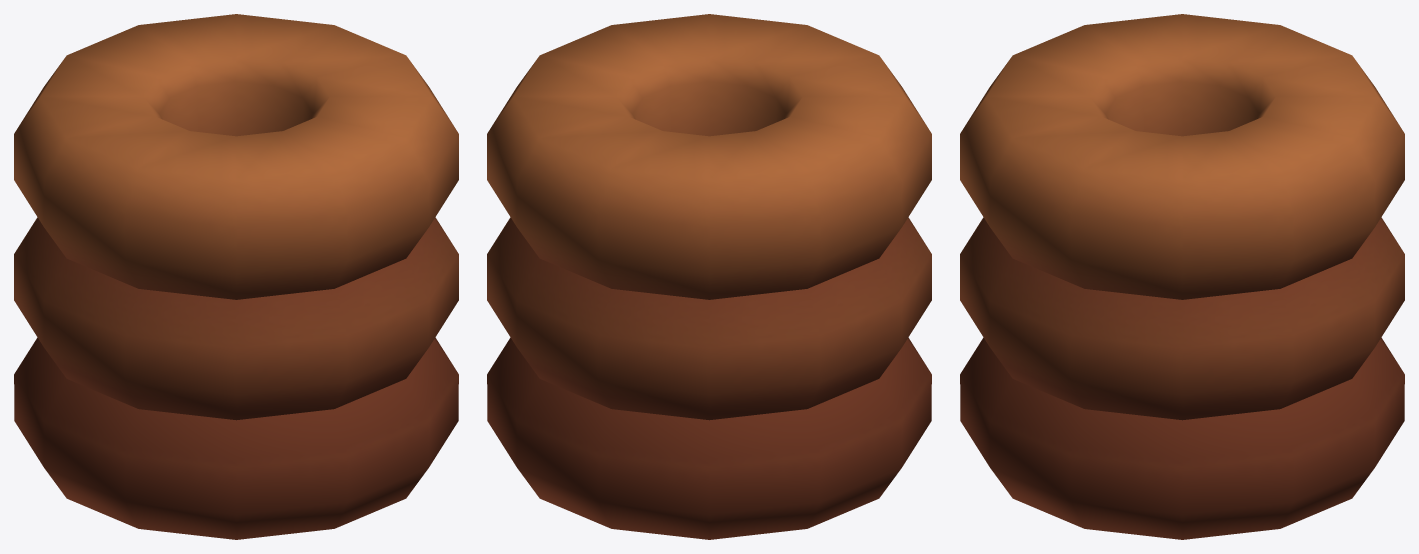
File: m_Baumkuchen02.fbx
3 renders of one model, left to right at view 1: azimuth 30°, elevation 25°; view 2: azimuth 150°, elevation 25°; view 3: azimuth 270°, elevation 25°, orthographic.
Visible parts, largest first — view 1: m_Baumkuchen02; view 2: m_Baumkuchen02; view 3: m_Baumkuchen02.
Boxes of the visible parts, x1,y1,x2,y2 form: m_Baumkuchen02: (14,14,458,539); m_Baumkuchen02: (487,14,931,539); m_Baumkuchen02: (960,14,1404,539).
Size of the model in its own units: 17.12 by 15.31 by 17.12.
